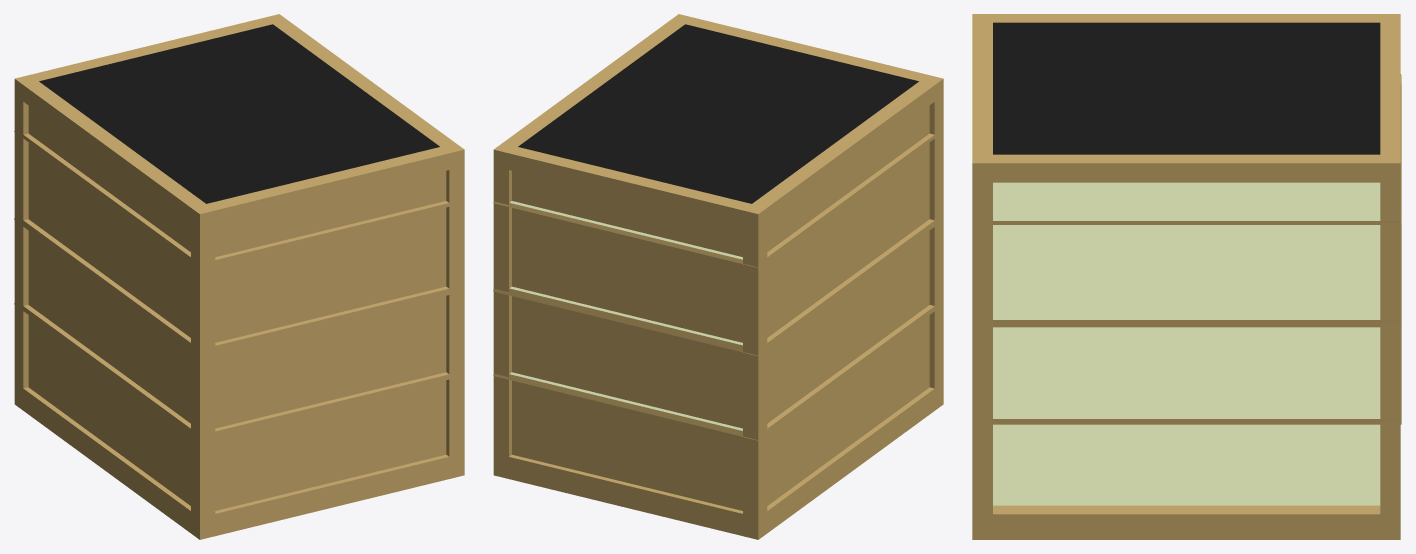
File: Tisch.fbx
The picture shows the model from 3 angles, left to right: view 1: azimuth 30°, elevation 25°; view 2: azimuth 150°, elevation 25°; view 3: azimuth 270°, elevation 25°; orthographic projection. The views are drawn at different scales.
Visible parts, largest first — view 1: Cube.001; view 2: Cube.001; view 3: Cube.001.
Boxes of the visible parts, bbox=[...] form: Cube.001: bbox=[14, 14, 464, 539]; Cube.001: bbox=[493, 14, 943, 539]; Cube.001: bbox=[972, 14, 1401, 539].
Bounding box in the file's own units: 82.51 × 96.96 × 100.
